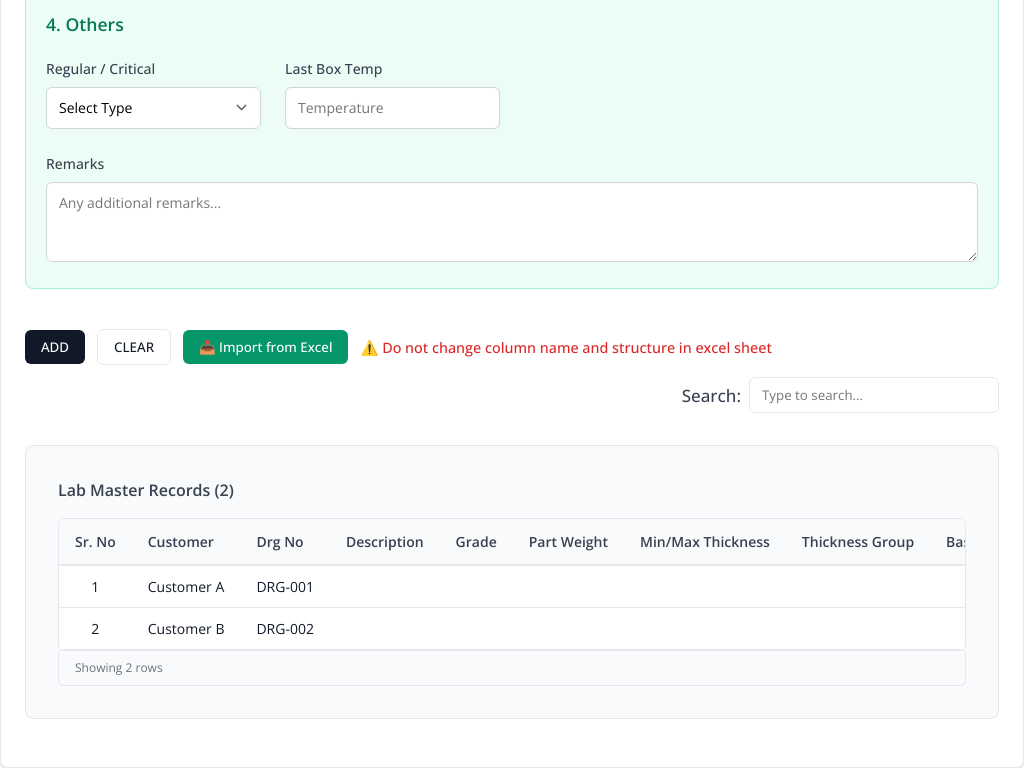
Scenario: LabMaster Component › Clear Form › clears form when Clear button clicked
(page scrolled)
// Click a row first
Step 1. Click the text "Customer A" → {"x": 186, "y": 587}, box [148,577,224,596]
(page scrolled)
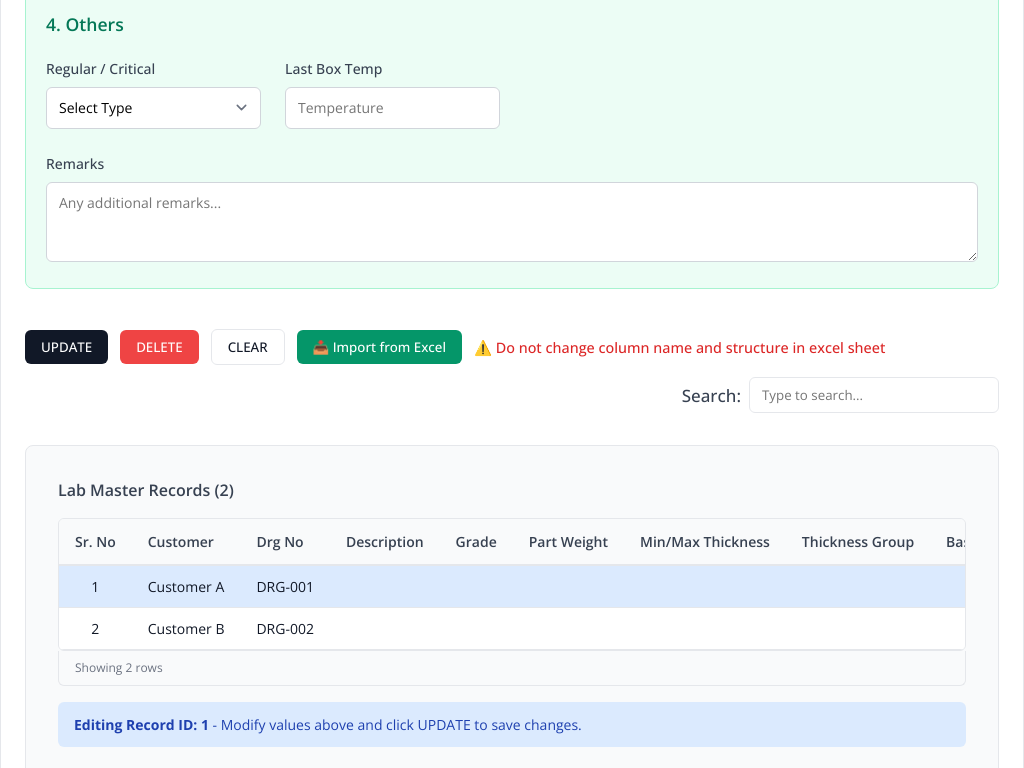
// Find and click Clear button
Step 2. Click the button "CLEAR" → {"x": 248, "y": 347}, box [211,329,285,365]
(page scrolled)
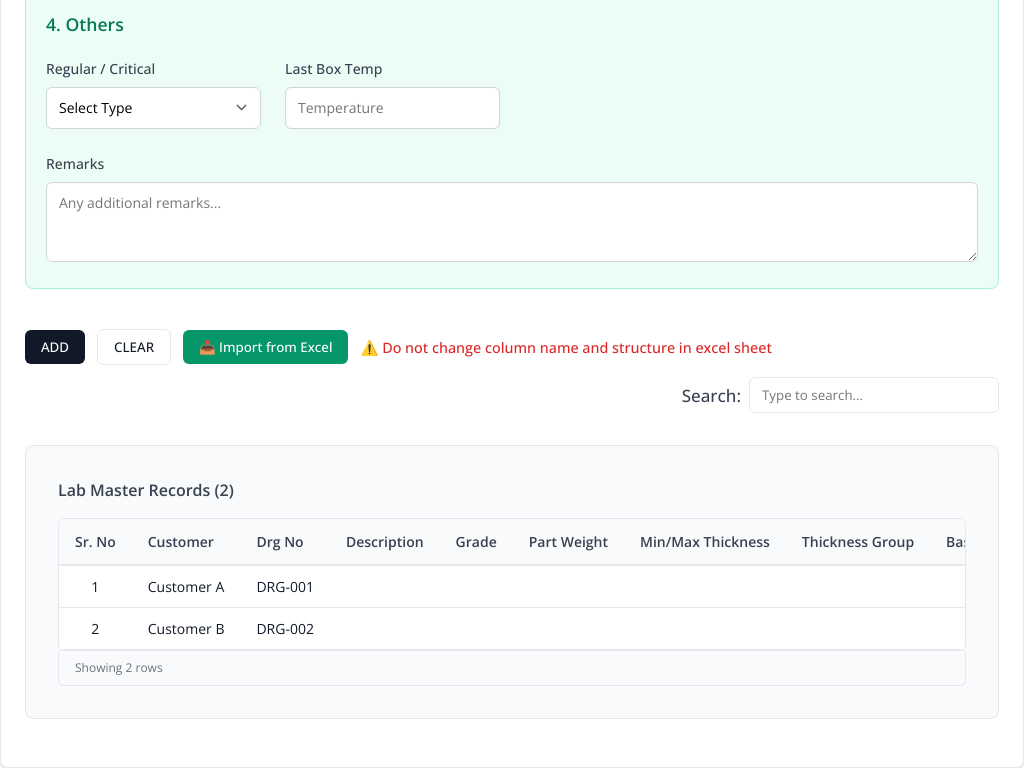
Result: the button "ADD" is shown at [25,330,85,364]
